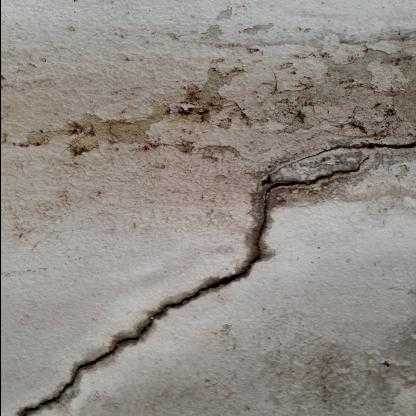crack: (17, 155, 368, 416)
